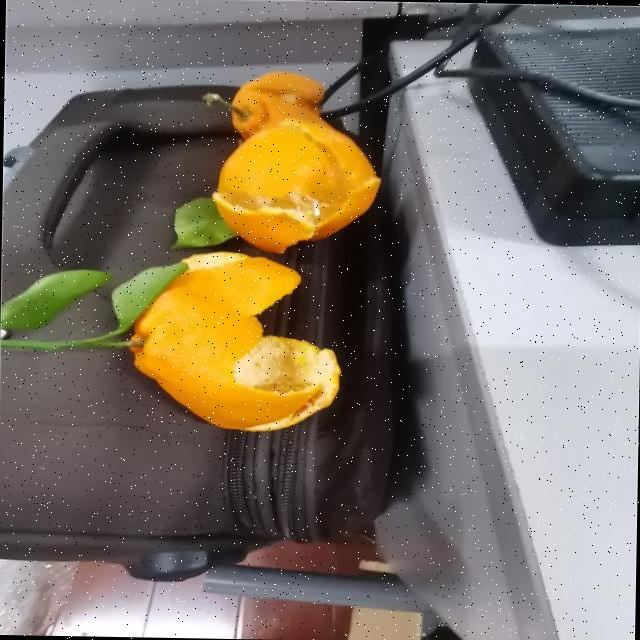orange-peel: (126, 248, 343, 434)
